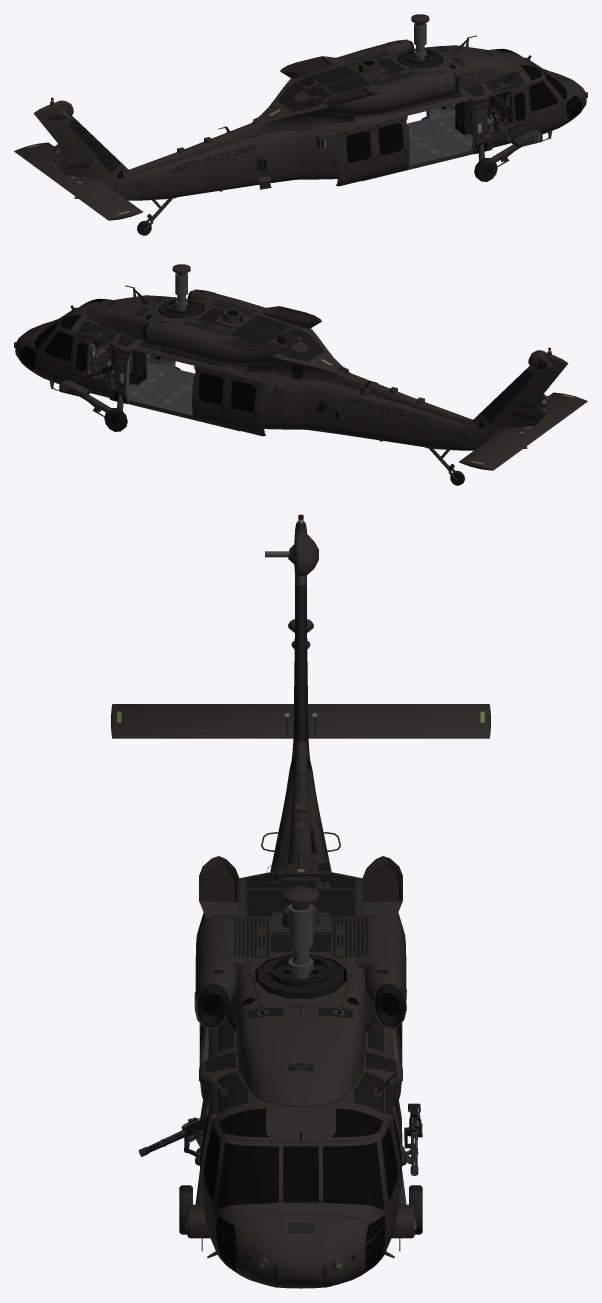
File: SM_CampHeli_Body.fbx
The picture shows the model from 3 angles, top to bottom: view 1: azimuth 30°, elevation 25°; view 2: azimuth 150°, elevation 25°; view 3: azimuth 270°, elevation 25°; orthographic projection. The views are drawn at different scales.
Parts seen in each view (by area): view 1: SM_CampHeli_Body; view 2: SM_CampHeli_Body; view 3: SM_CampHeli_Body.
Part boxes in pixels (x1,y1,x2,y2): SM_CampHeli_Body: (14, 14, 587, 235); SM_CampHeli_Body: (14, 264, 587, 485); SM_CampHeli_Body: (111, 514, 490, 1288).
Size of the model in its own units: 455 by 1511 by 424.
Materials: 1 (1 with a texture image).
